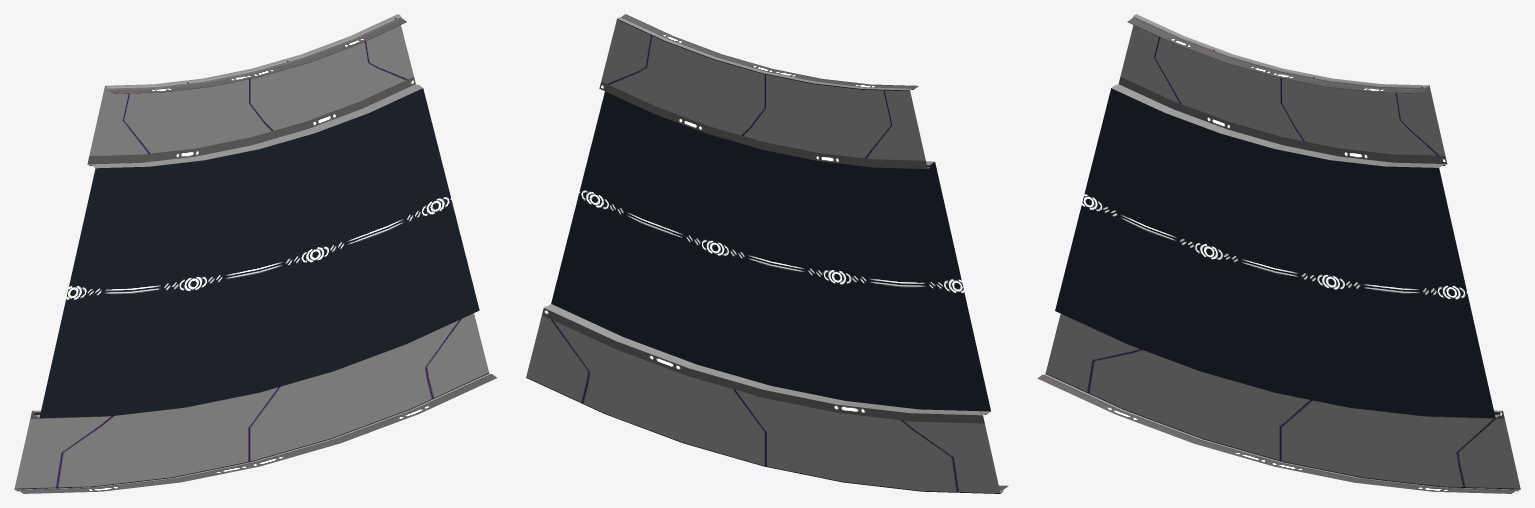
Rendered from SM_S_Road45.fbx.
The picture shows the model from 3 angles, left to right: view 1: azimuth 30°, elevation 25°; view 2: azimuth 150°, elevation 25°; view 3: azimuth 330°, elevation 25°; orthographic projection.
Visible parts, largest first — view 1: SM_S_Road45; view 2: SM_S_Road45; view 3: SM_S_Road45.
Part boxes in pixels (x1,y1,x2,y2): SM_S_Road45: (14, 14, 496, 493); SM_S_Road45: (526, 14, 1008, 493); SM_S_Road45: (1037, 14, 1520, 493).
Bounding box in the file's own units: 3732 × 3095 × 119.
